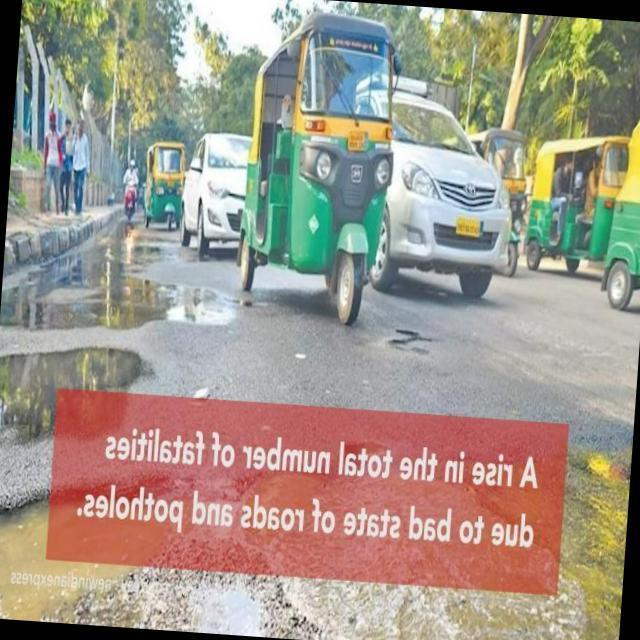pothole: (286, 579, 586, 640), (0, 500, 132, 619)
